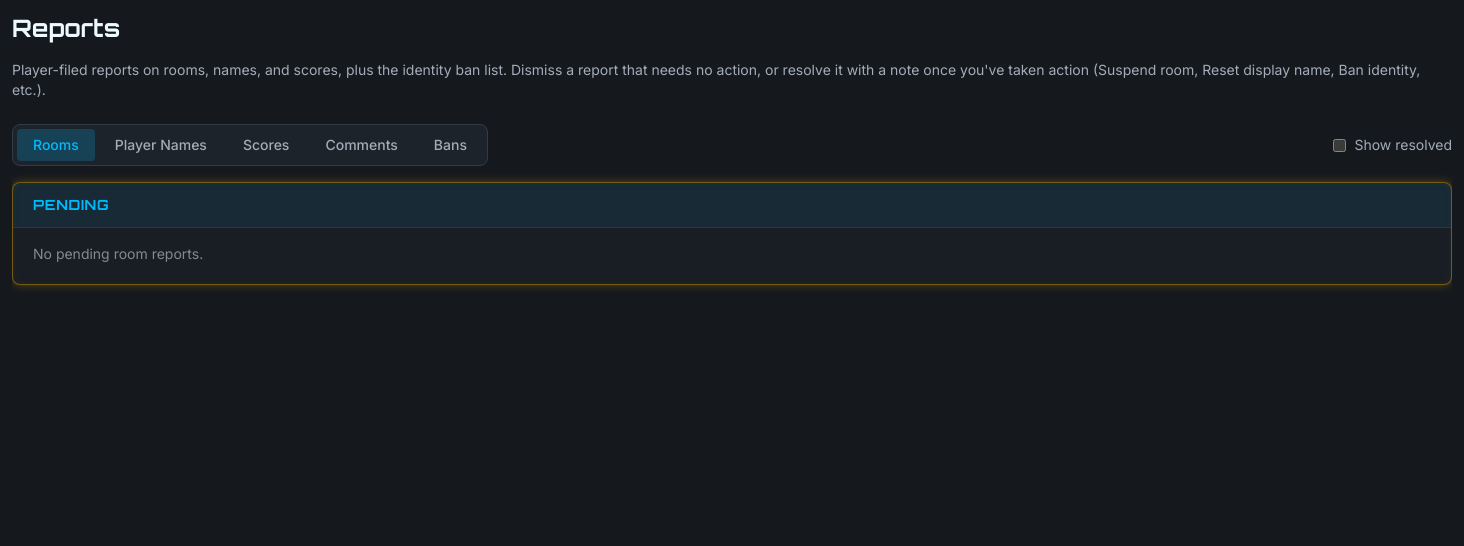
Reports page › m8: hides "Ban identity" for an iscored:* target_user_id, but shows it for a real identity
Check: the text "No pending room reports." is shown, box [33,245,203,262]
Click the button "Player Names" at [161, 145], box [99,129,223,161]
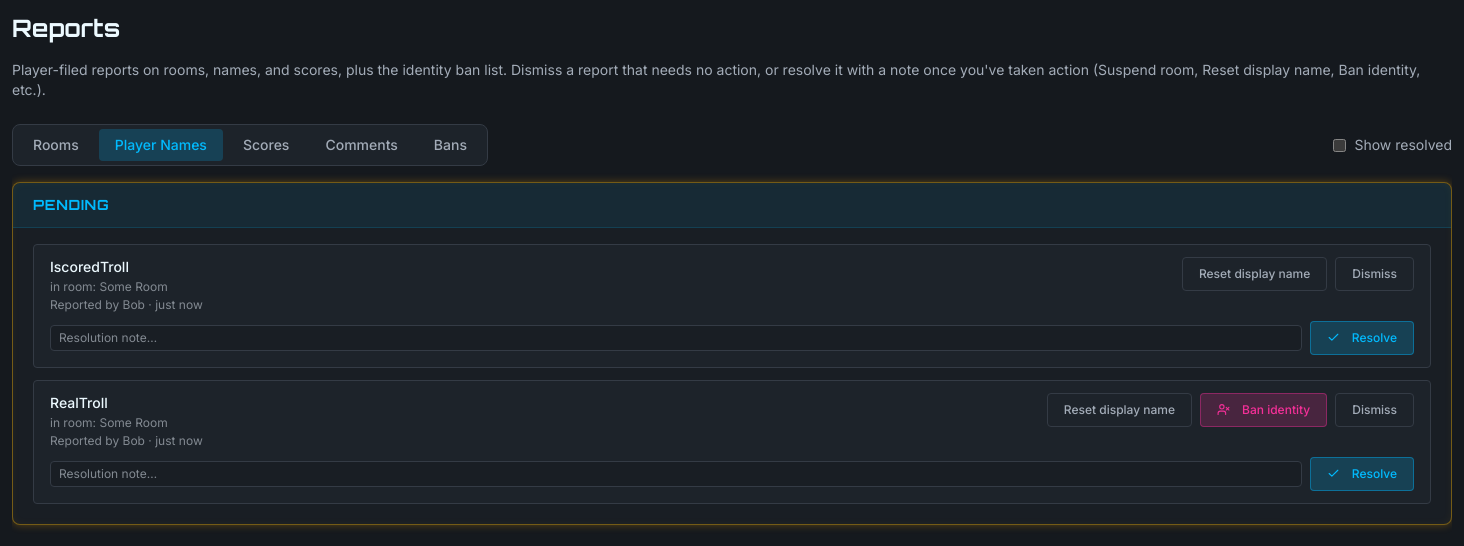
Check: the text "IscoredTroll" is shown, box [50,258,129,275]
Check: the text "RealTroll" is shown, box [50,394,108,411]
Check: the number of buttons "Ban identity" is 1, box [1200,393,1327,427]
